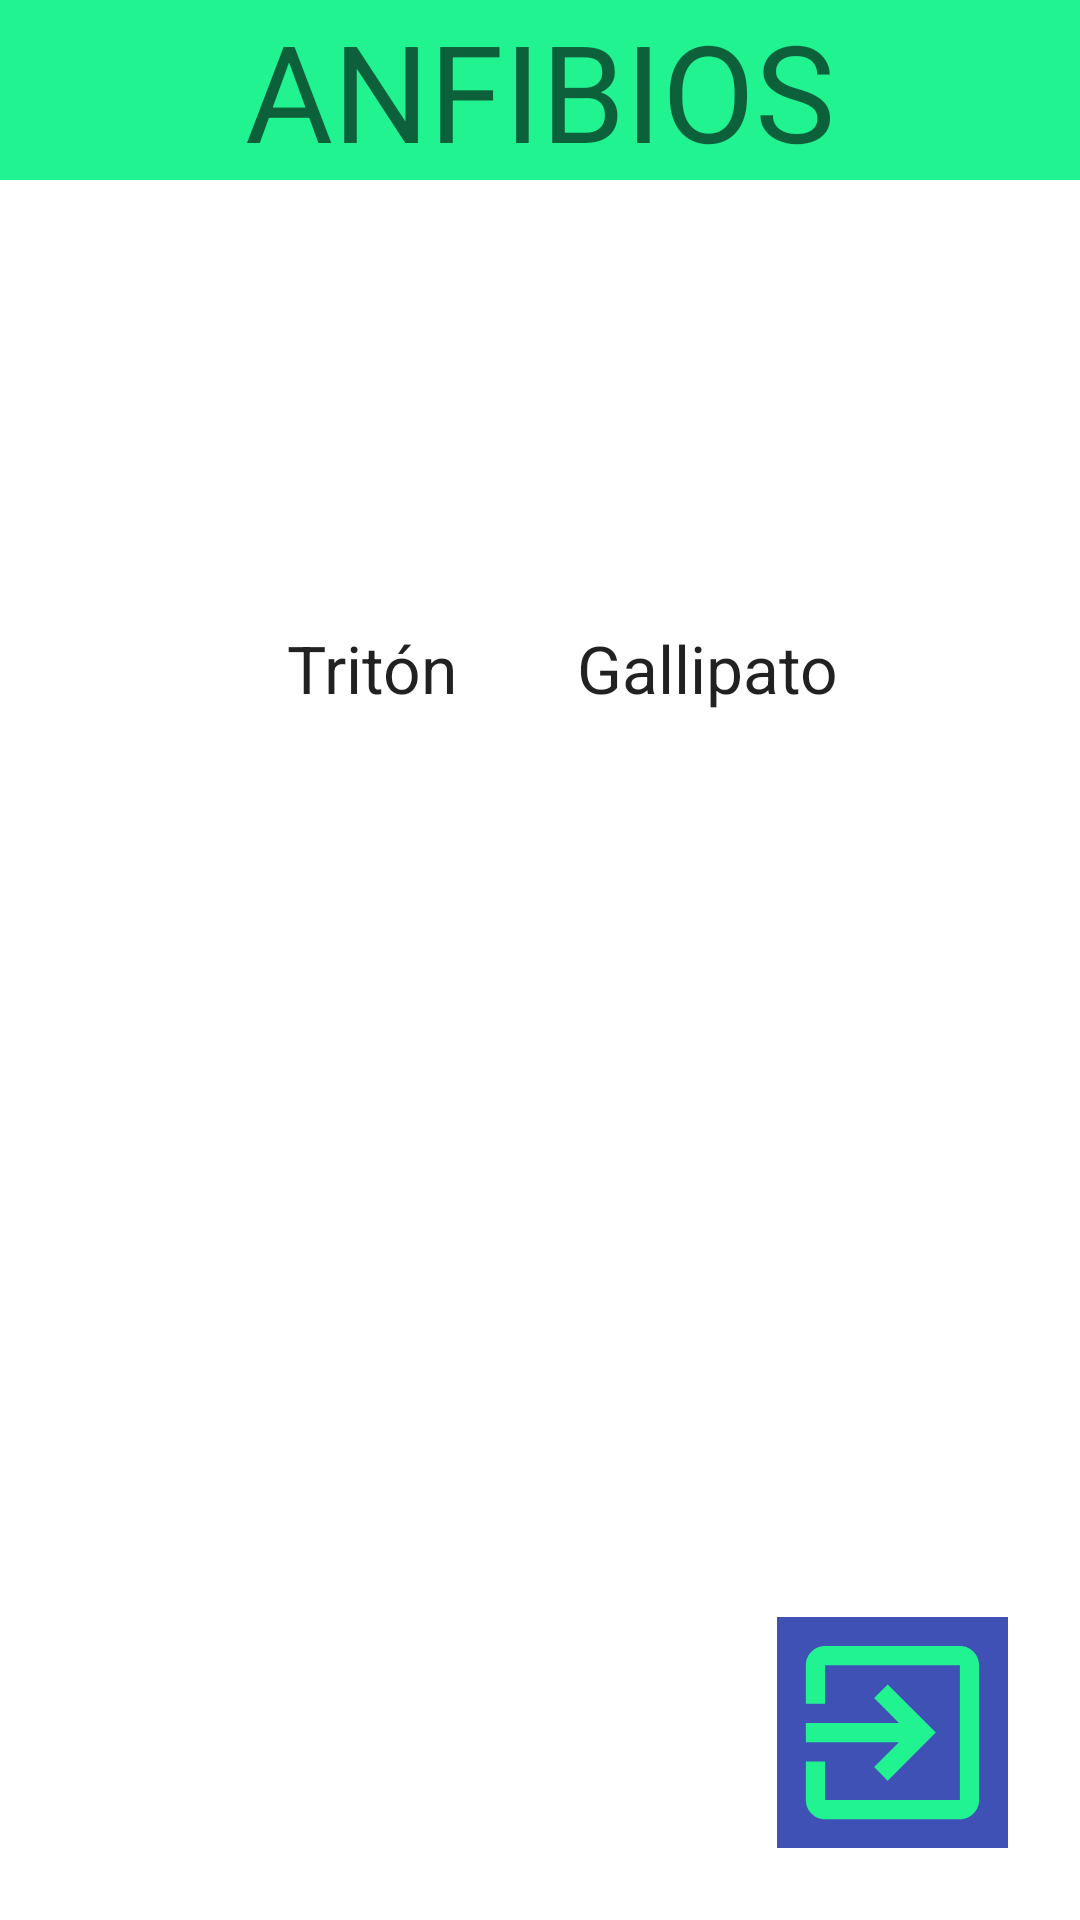

Screen size 1080x1920. Icon name, then its center in pixels as [x,y]:
exit to app: [892,1732]
